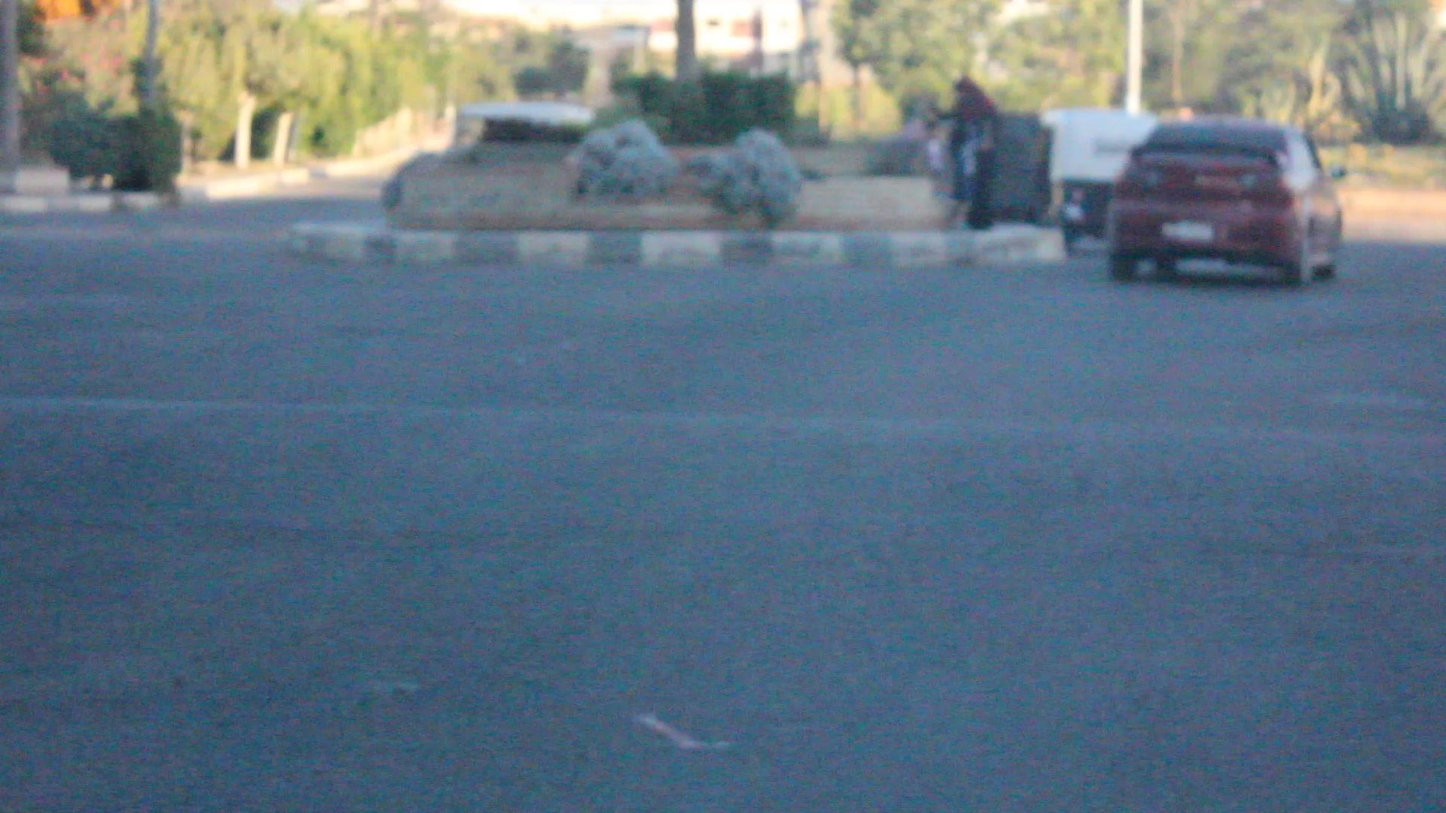Bump: (0, 393, 1445, 573)
